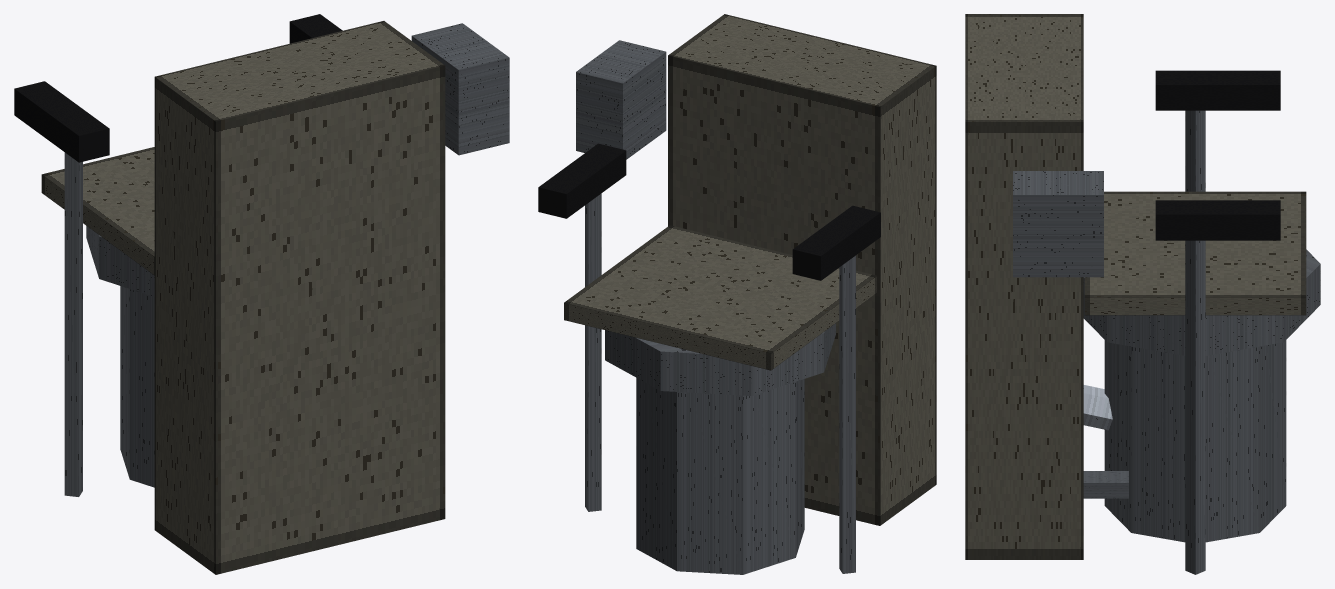
Rendered from space_toilet_habitation_worn.glb.
The picture shows the model from 3 angles, left to right: view 1: azimuth 30°, elevation 25°; view 2: azimuth 150°, elevation 25°; view 3: azimuth 270°, elevation 25°; orthographic projection. The views are drawn at different scales.
Parts seen in each view (by area): view 1: space_toilet_habitation_worn; view 2: space_toilet_habitation_worn; view 3: space_toilet_habitation_worn.
Part boxes in pixels (<box>): space_toilet_habitation_worn: <box>14,14,509,574</box>; space_toilet_habitation_worn: <box>538,14,936,574</box>; space_toilet_habitation_worn: <box>965,14,1320,574</box>.
Size of the model in its own units: 0.7 by 0.85 by 0.625.
Materials: 5 (5 with a texture image).
